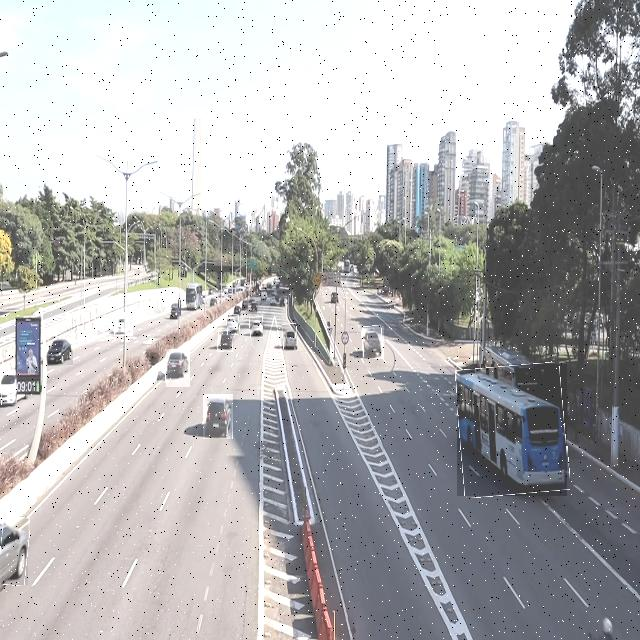Bus: (458, 364, 568, 496)
Car: (0, 516, 28, 585), (203, 394, 233, 439), (166, 350, 190, 388), (46, 336, 73, 366), (362, 326, 384, 359), (0, 369, 17, 405), (114, 313, 133, 337), (282, 324, 298, 351), (218, 328, 233, 352), (250, 317, 263, 338), (227, 315, 240, 335)
